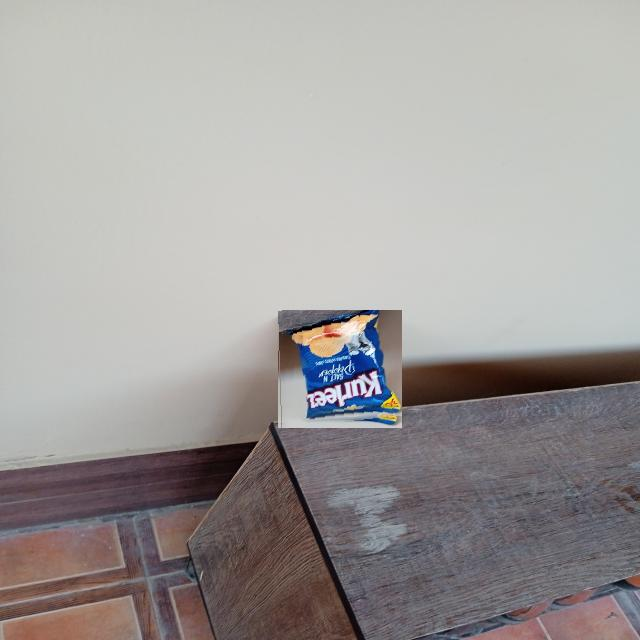Plastic: (277, 310, 402, 428)
